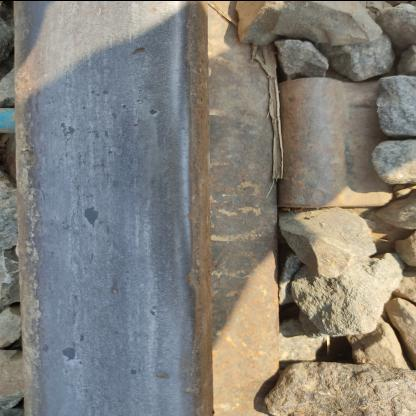Defective 1: (213, 43, 415, 243)
